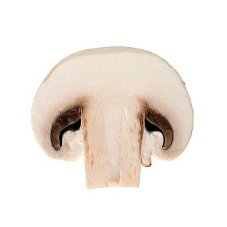mushroom: (29, 44, 194, 194)
